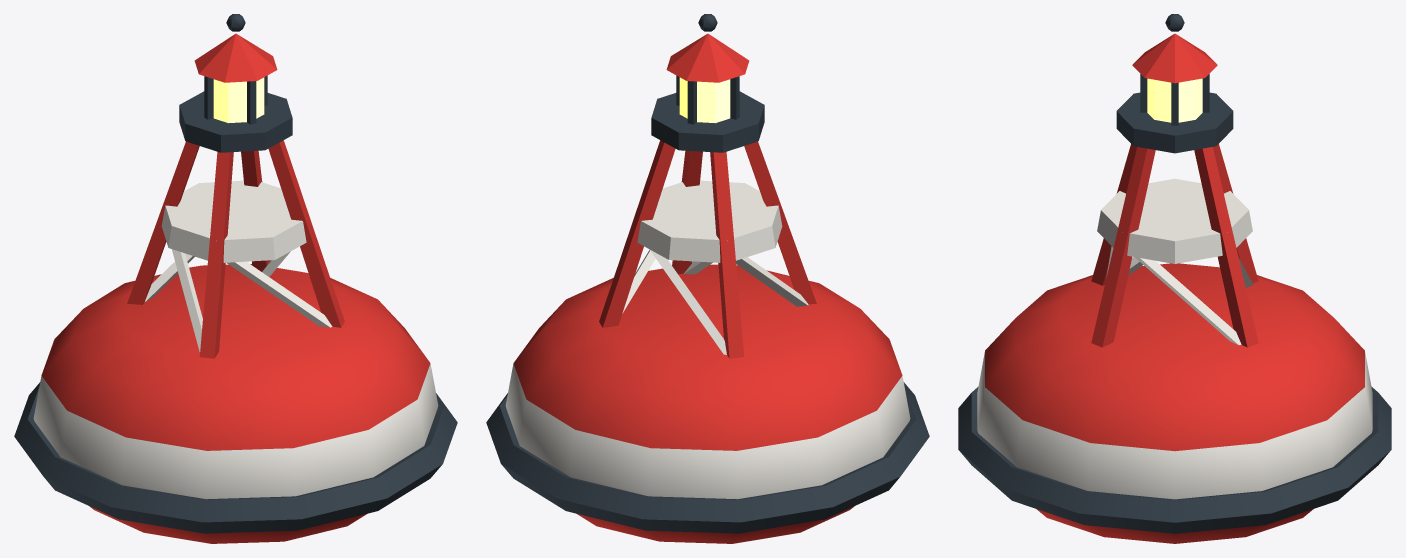
File: buoy.glb
3 renders of one model, left to right at view 1: azimuth 30°, elevation 25°; view 2: azimuth 150°, elevation 25°; view 3: azimuth 270°, elevation 25°, orthographic.
Visible parts, largest first — view 1: buoy; view 2: buoy; view 3: buoy.
Part boxes in pixels (<box>): buoy: <box>14,14,457,543</box>; buoy: <box>486,14,929,543</box>; buoy: <box>958,14,1391,543</box>.
Bounding box in the file's own units: 1.14 × 1.3 × 1.11.
